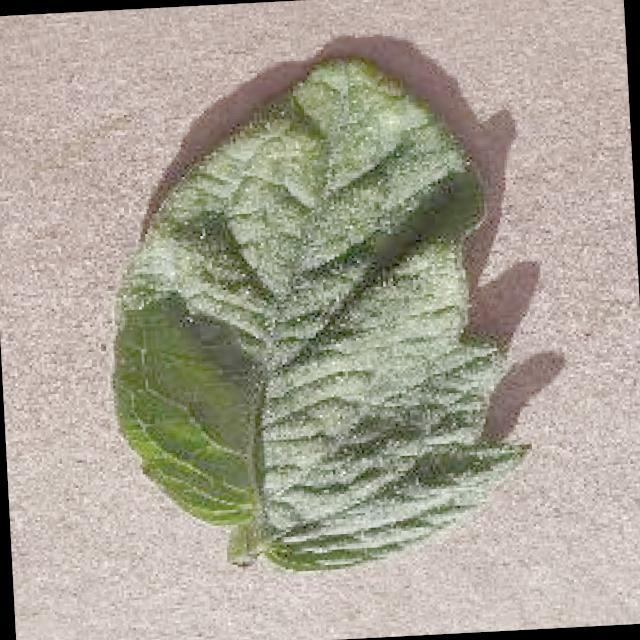Tomato spider mites leaf: (96, 41, 532, 582)
